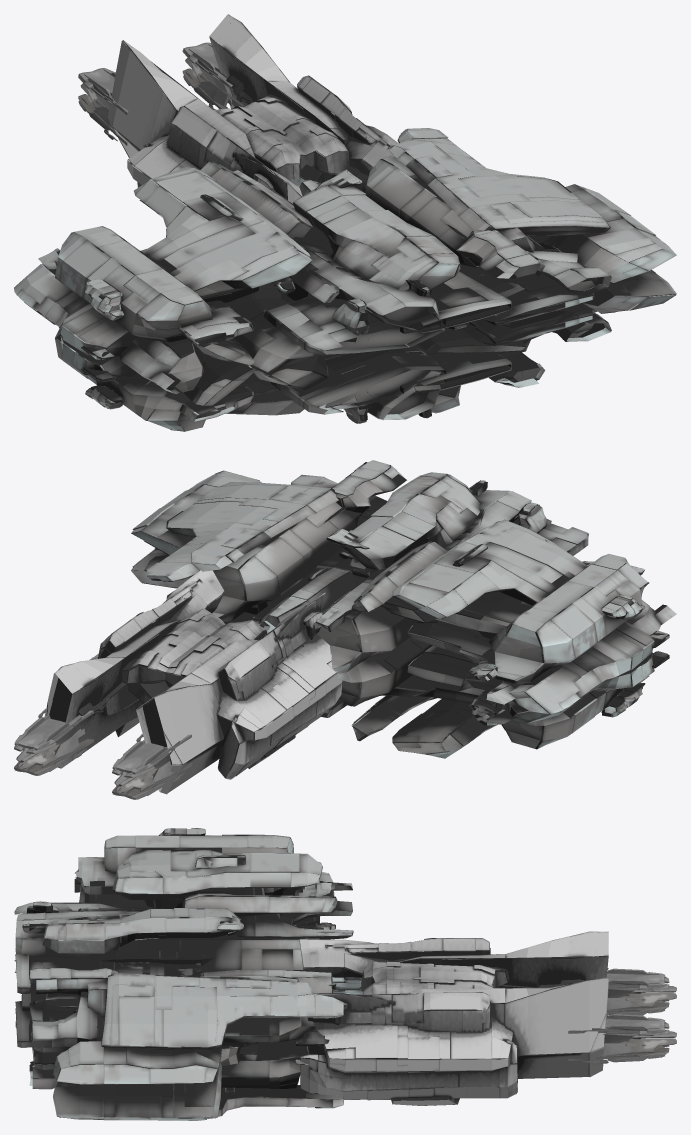
File: DREADNOUGHT_000.fbx
3 views of the same model, one above another, from view 1: azimuth 30°, elevation 25°; view 2: azimuth 150°, elevation 25°; view 3: azimuth 270°, elevation 25° (orthographic). The views are drawn at different scales.
Parts seen in each view (by area): view 1: DREADNOUGHT_000; view 2: DREADNOUGHT_000; view 3: DREADNOUGHT_000.
Boxes of the visible parts, x1,y1,x2,y2 form: DREADNOUGHT_000: (14, 14, 676, 431); DREADNOUGHT_000: (14, 460, 676, 799); DREADNOUGHT_000: (14, 828, 676, 1120).
Bounding box in the file's own units: 110 × 36.2 × 131.
